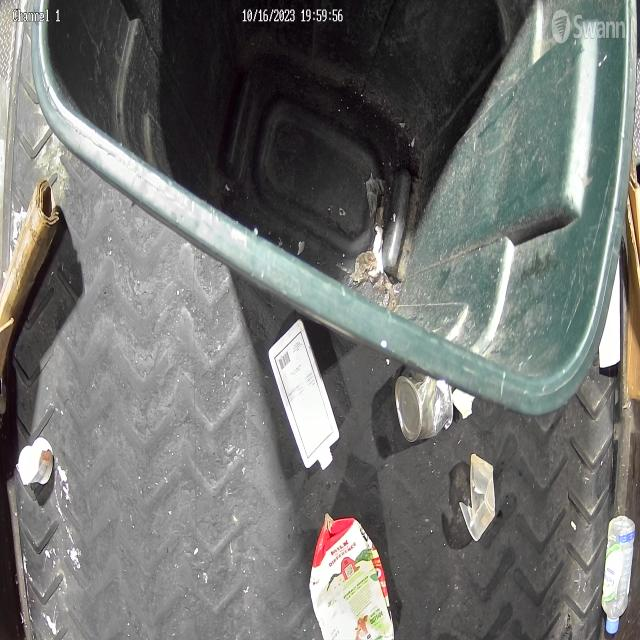can: (394, 368, 454, 442)
non_white_jug: (310, 510, 398, 640)
plastic_bottle: (601, 513, 636, 635)
